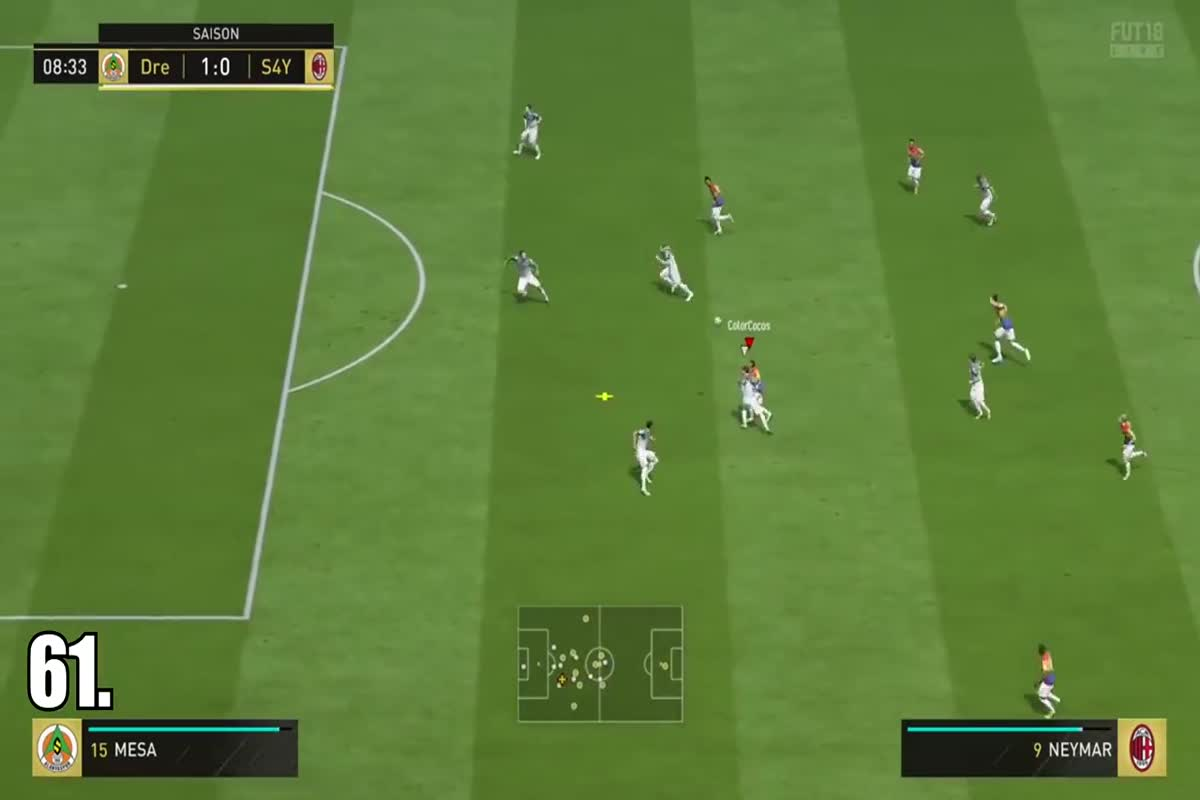ball: (705, 311, 727, 330)
